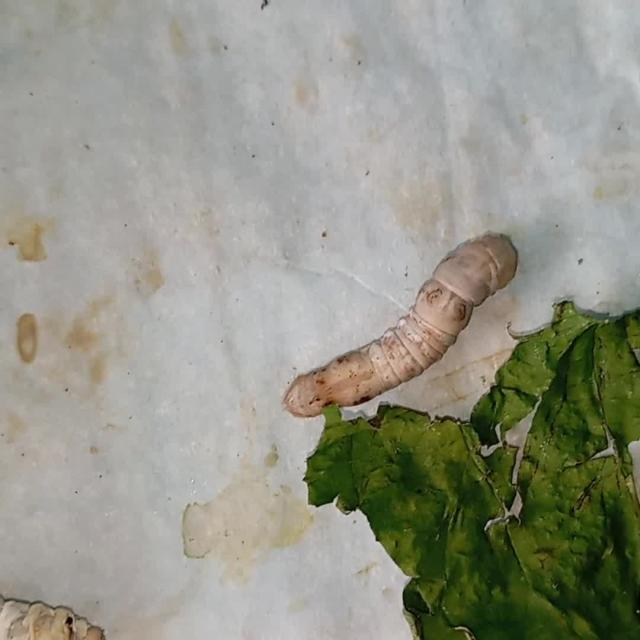Grasserie: (279, 208, 526, 424)
